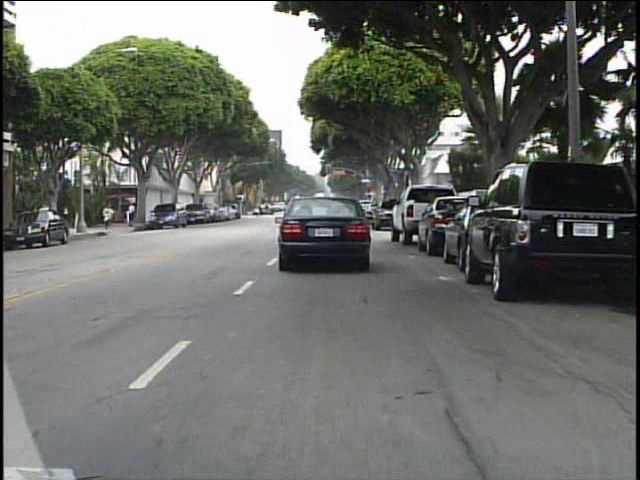person: (102, 199, 118, 235), (127, 199, 141, 230), (258, 200, 270, 221)
